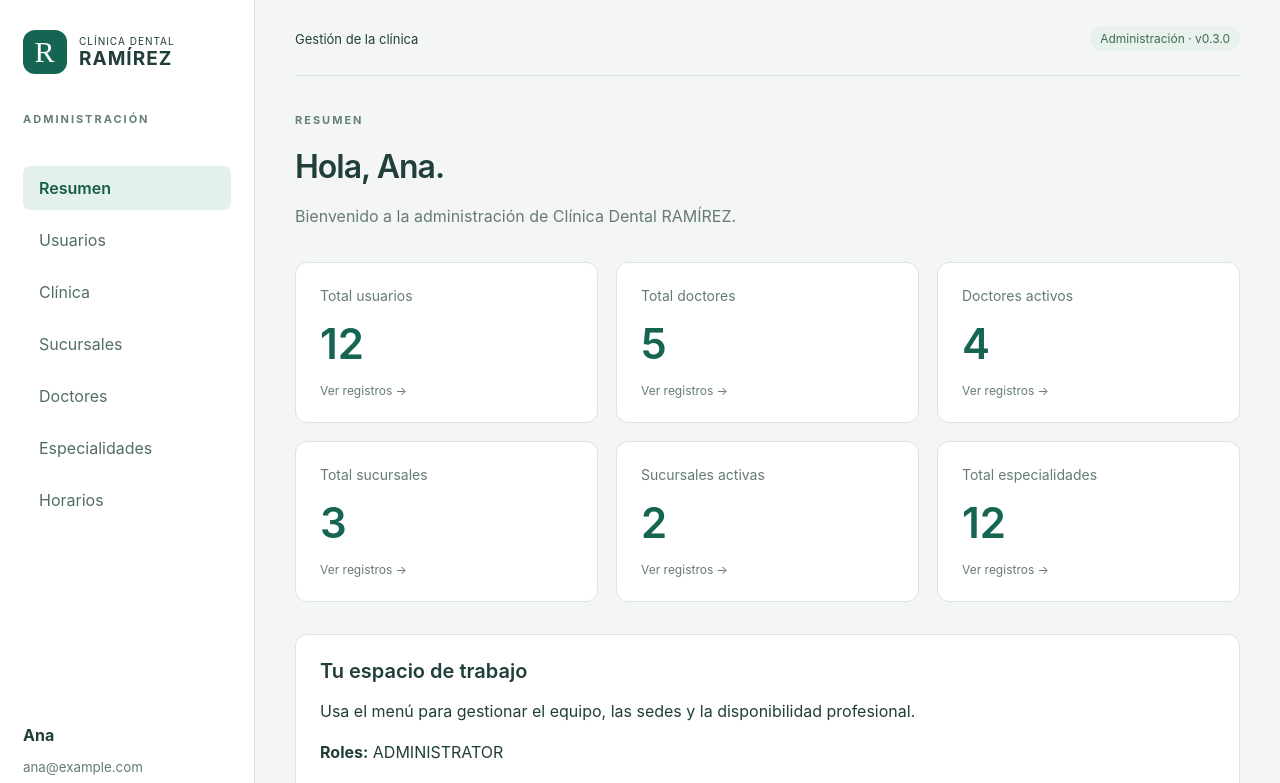
Test: navega entre resumen y clínica marcando la ruta activa
The image size is (1280, 783).
Click the link "Clínica" at (64, 292), box [39,282,90,302]
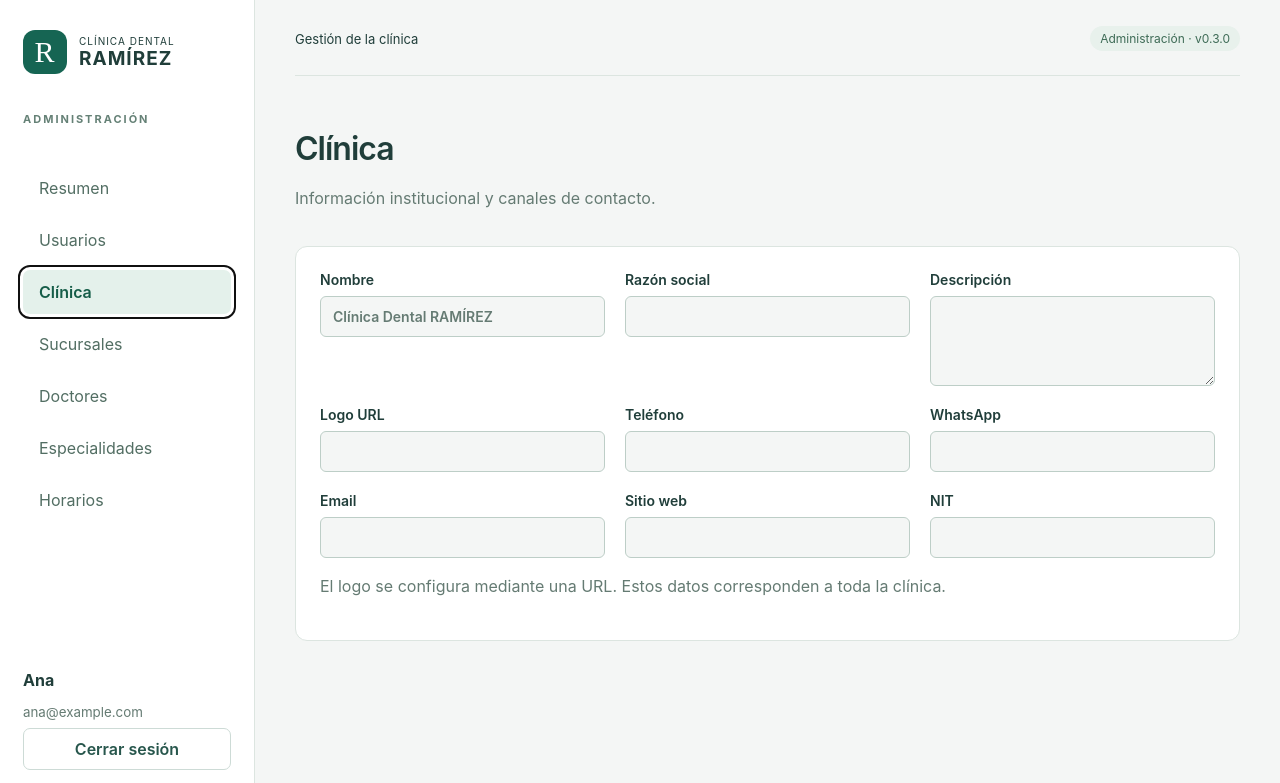
Expected: the field showing "Clínica Dental RAMÍREZ" is shown, [320,296,605,337]
Click the link "Resumen" at (74, 188), box [39,178,109,198]
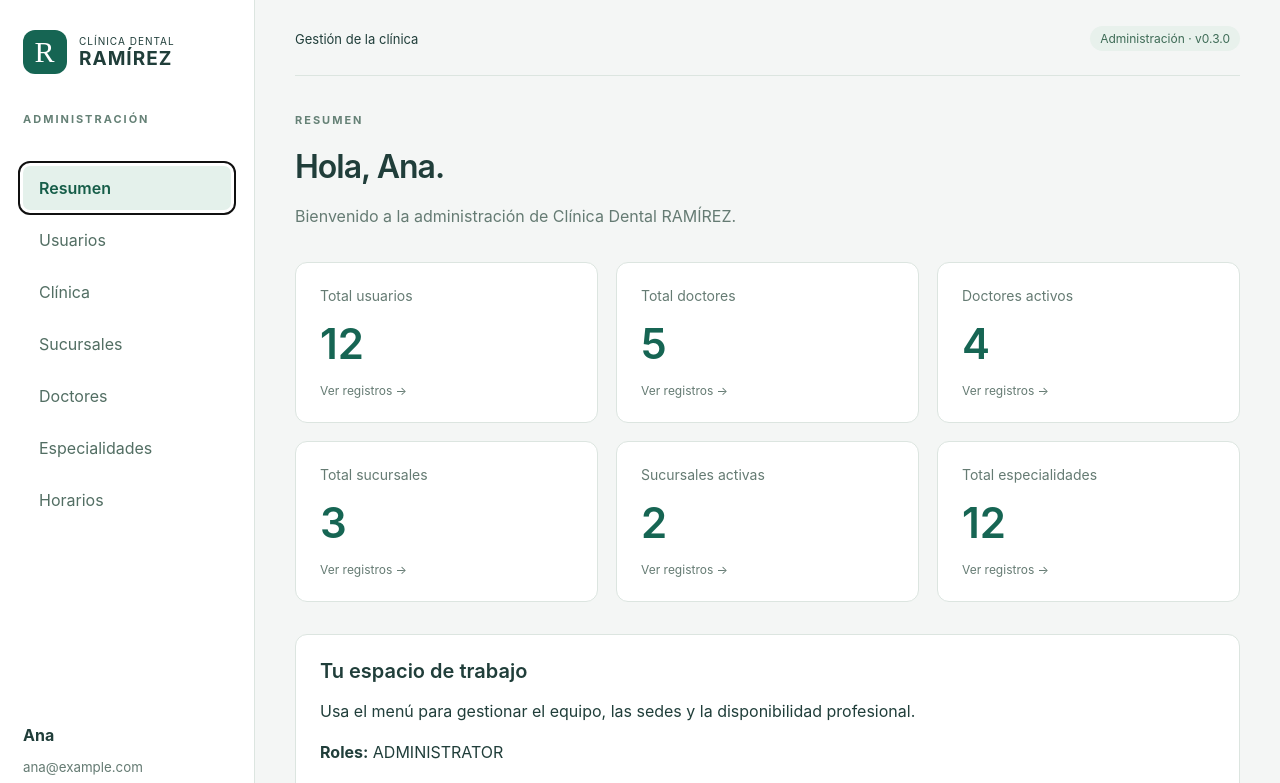
Expected: the heading "Hola, Ana." is shown, [295,147,444,186]
